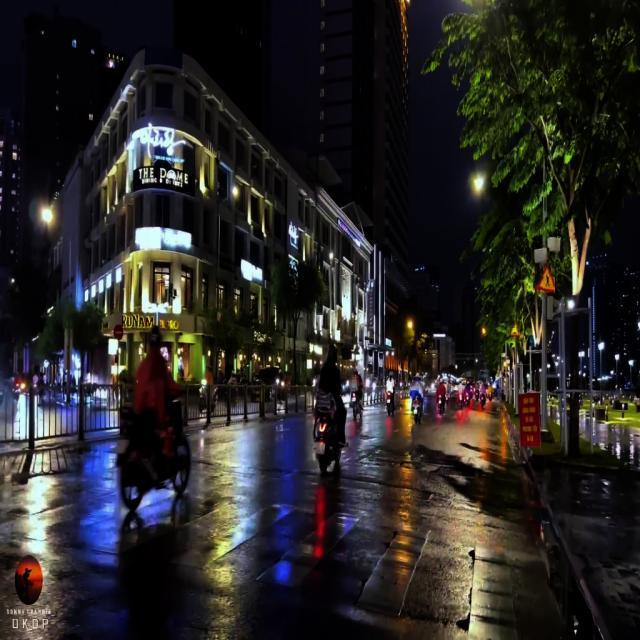224-duong-nguoi-di-bo-cat-ngang: (536, 264, 558, 292)
